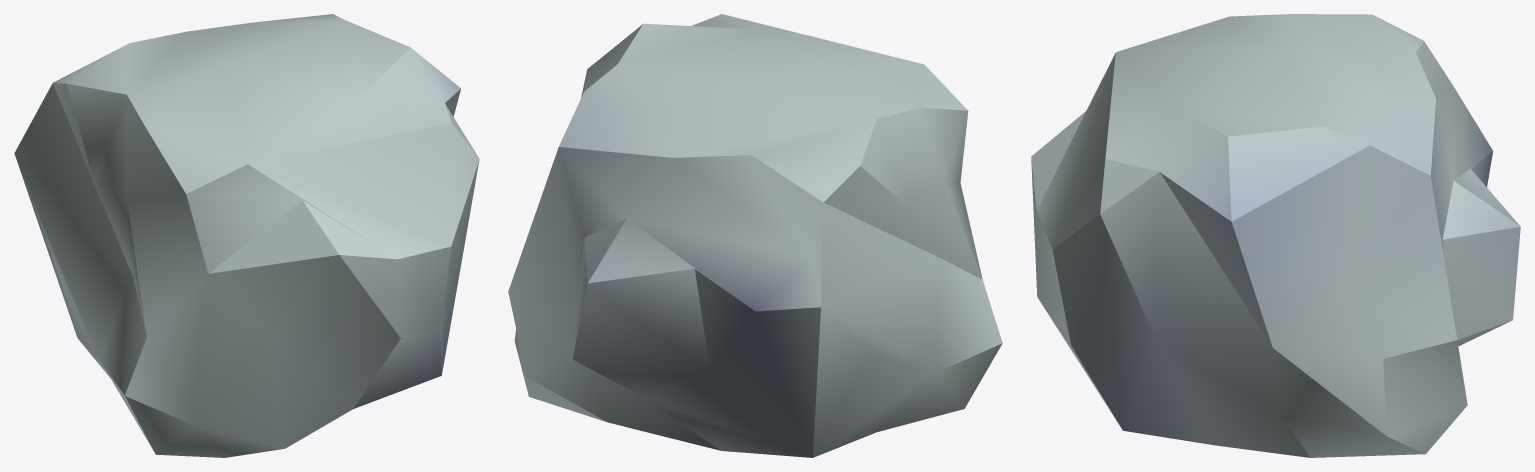
The model's file is iron.glb.
The picture shows the model from 3 angles, left to right: view 1: azimuth 30°, elevation 25°; view 2: azimuth 150°, elevation 25°; view 3: azimuth 270°, elevation 25°; orthographic projection. The views are drawn at different scales.
Visible parts, largest first — view 1: iron; view 2: iron; view 3: iron.
Boxes of the visible parts, x1,y1,x2,y2 form: iron: [14, 14, 479, 457]; iron: [508, 14, 1002, 457]; iron: [1031, 14, 1520, 457].
Size of the model in its own units: 1.56 by 1.41 by 1.71.
